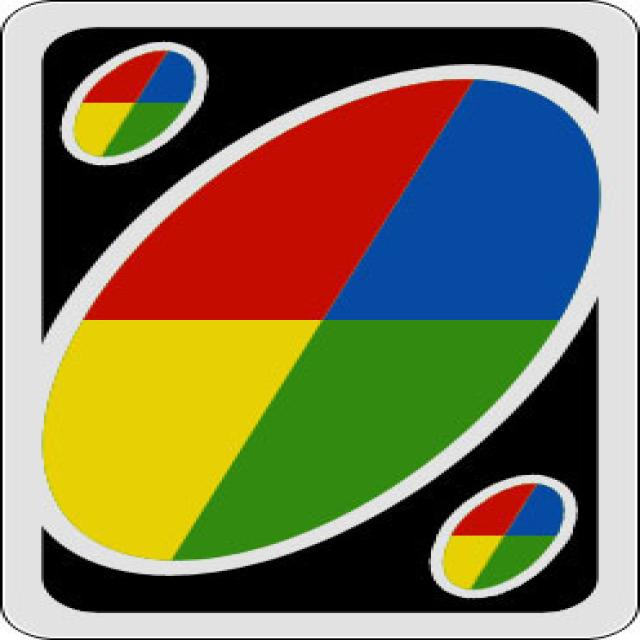Change_Color: (30, 22, 612, 621)
